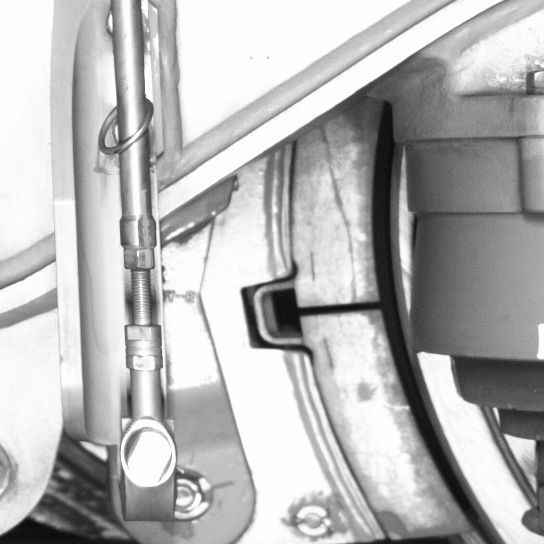KnifeSwitch: (290, 137, 510, 541)
